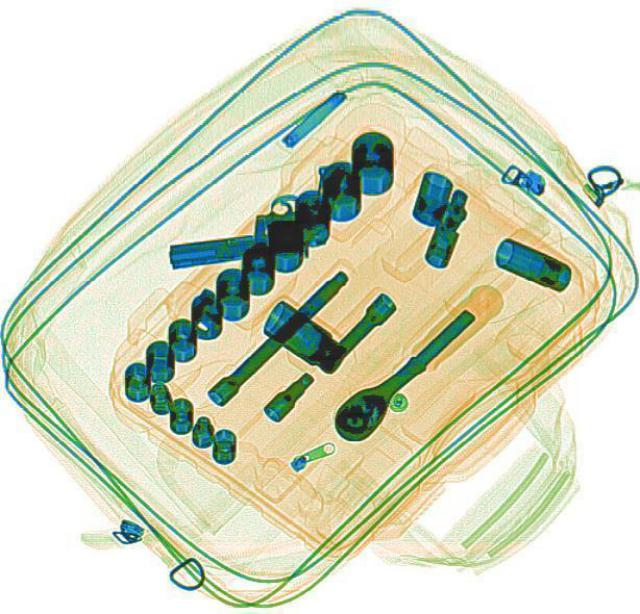Gun: (153, 159, 369, 267)
